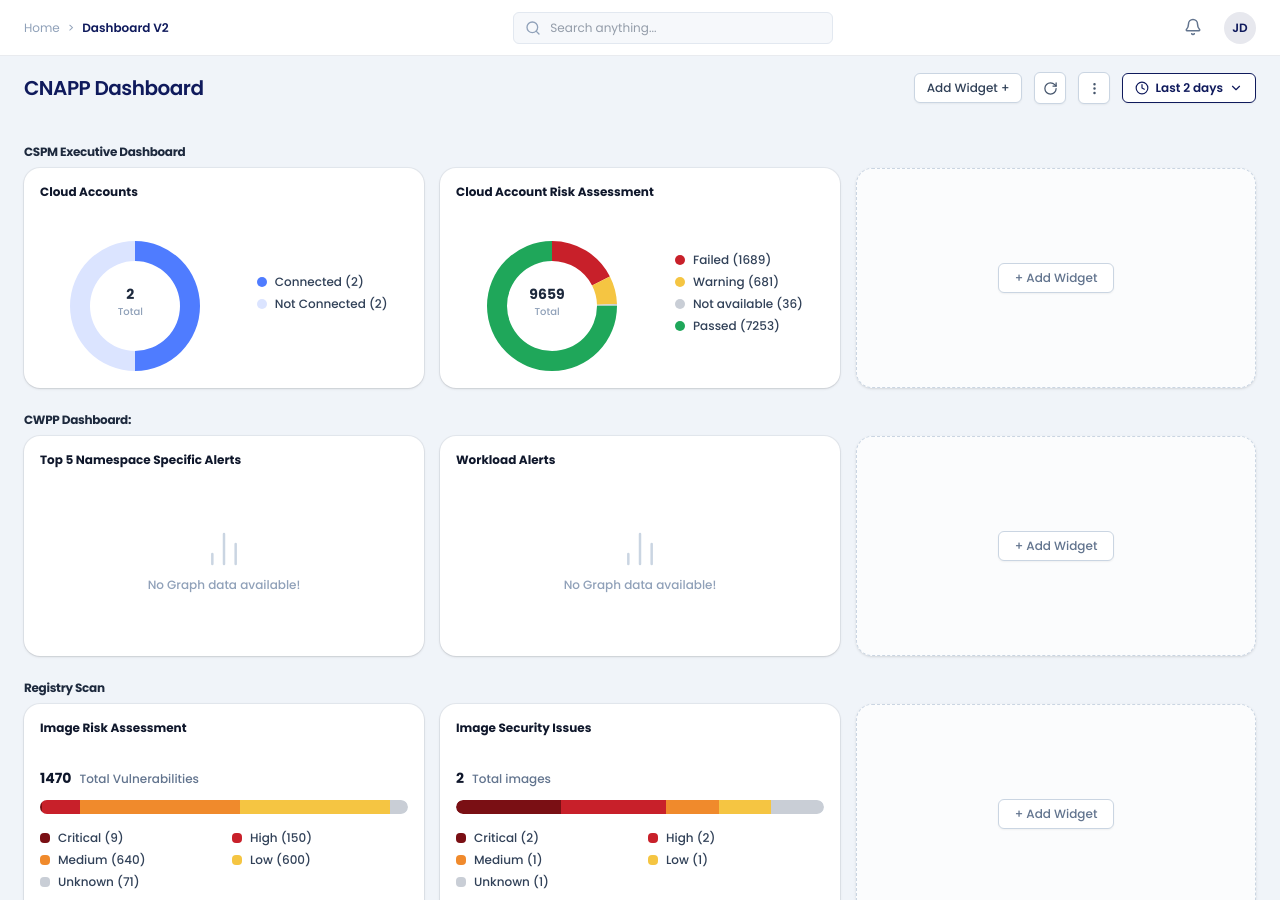
Test: Drawer Search (Phase 8a) › clearing the query returns to the tab view
Click the button "Add Widget +" at (968, 88), box [914,73,1022,103]
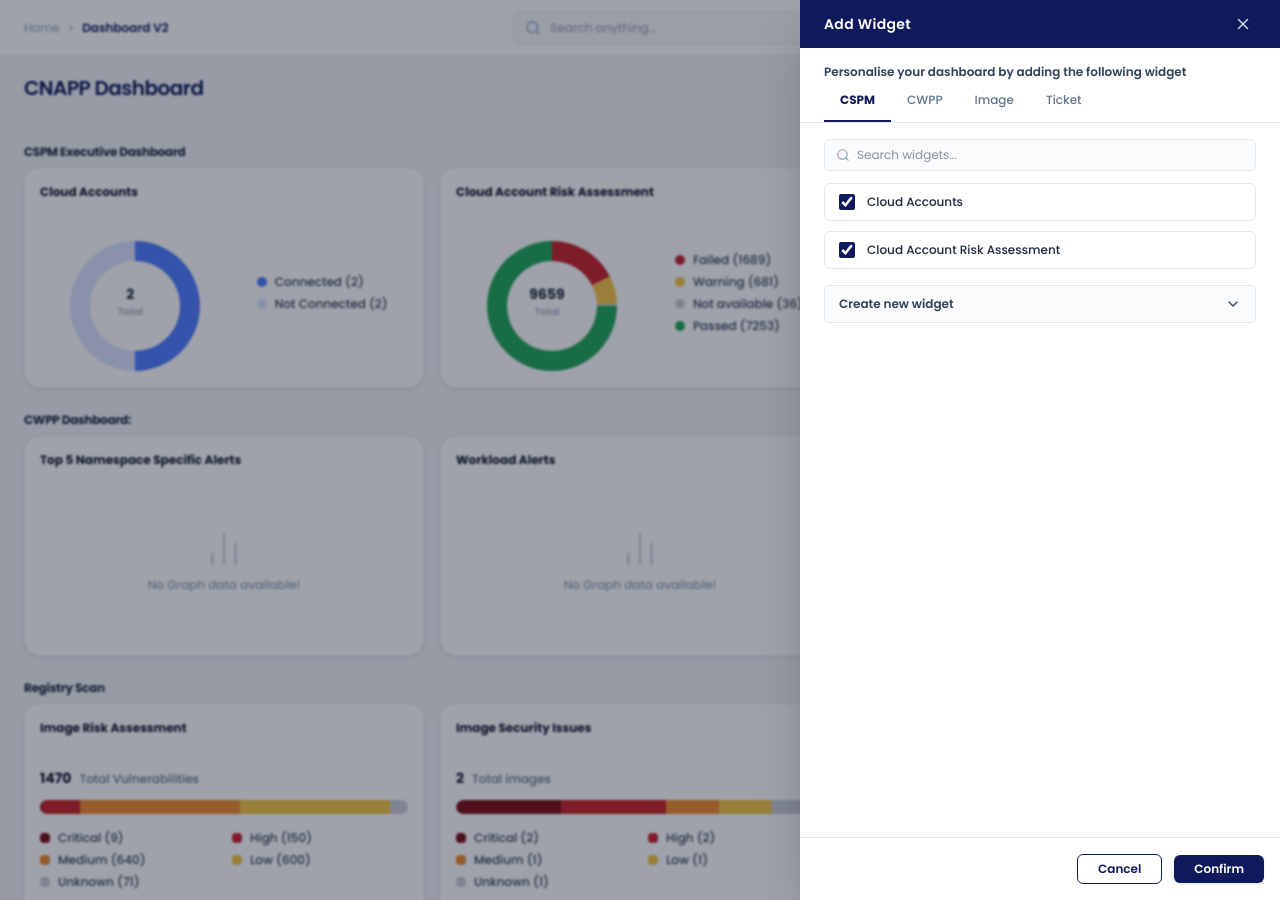
Type "Accounts" into the search field labelled "Search widgets" at (1040, 155), box [824,139,1256,171]
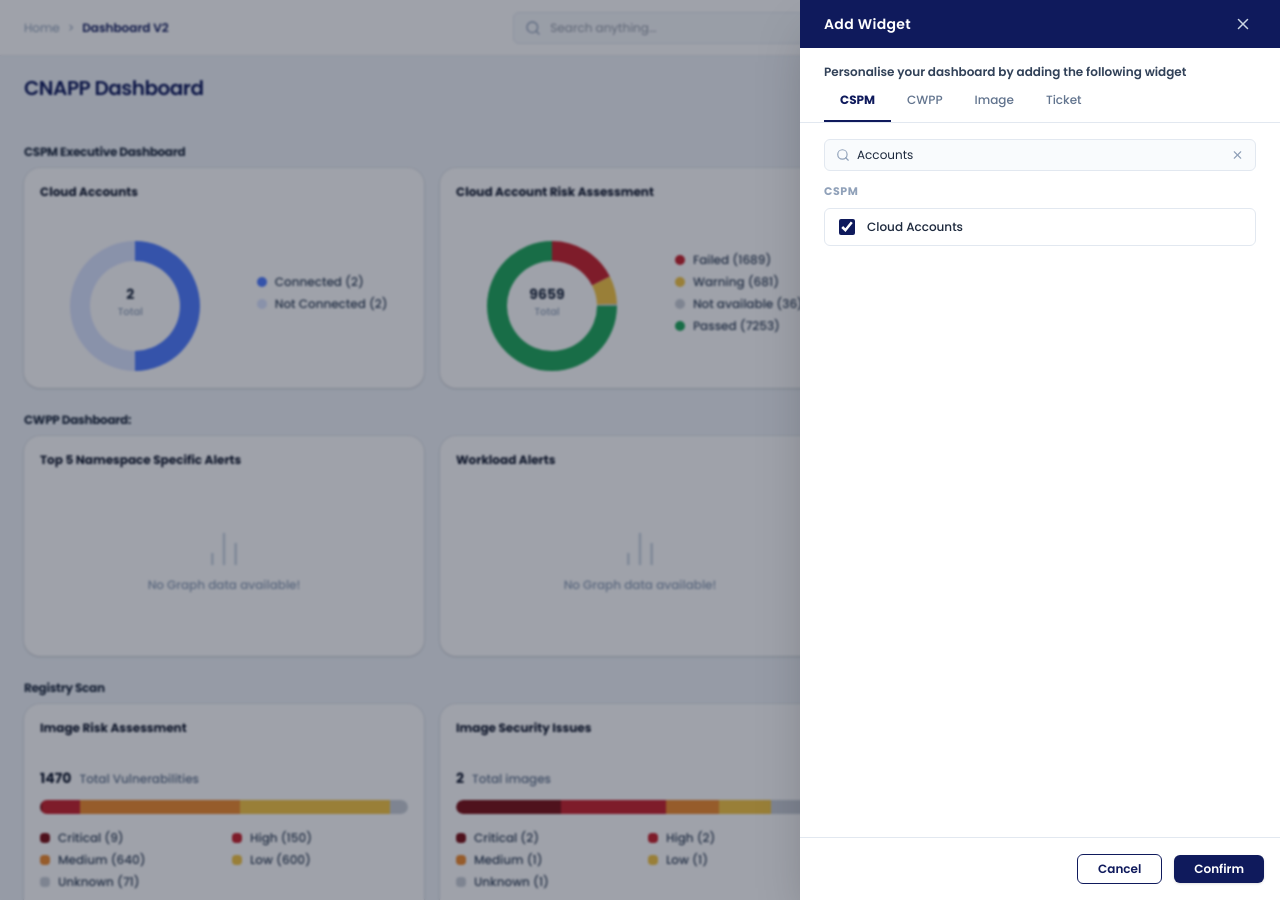
Click the button named "Clear search" at (1238, 155), box [1229,146,1246,164]
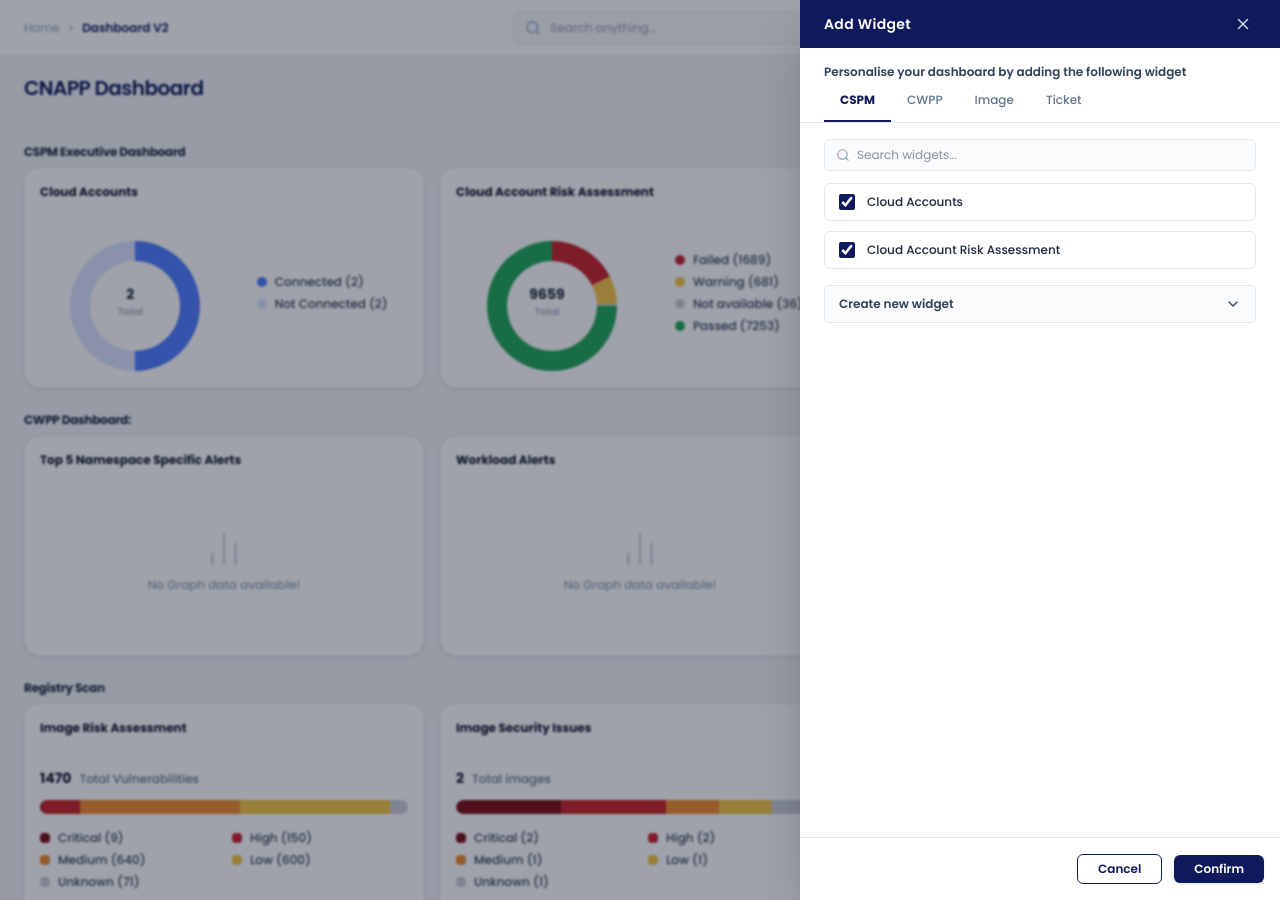
Result: the checkbox labelled "Cloud Accounts" is shown at [839,194,855,210]
Result: the search field labelled "Search widgets" is empty at [824,139,1256,171]
Result: the checkbox labelled "Cloud Account Risk Assessment" is shown at [839,242,855,258]
